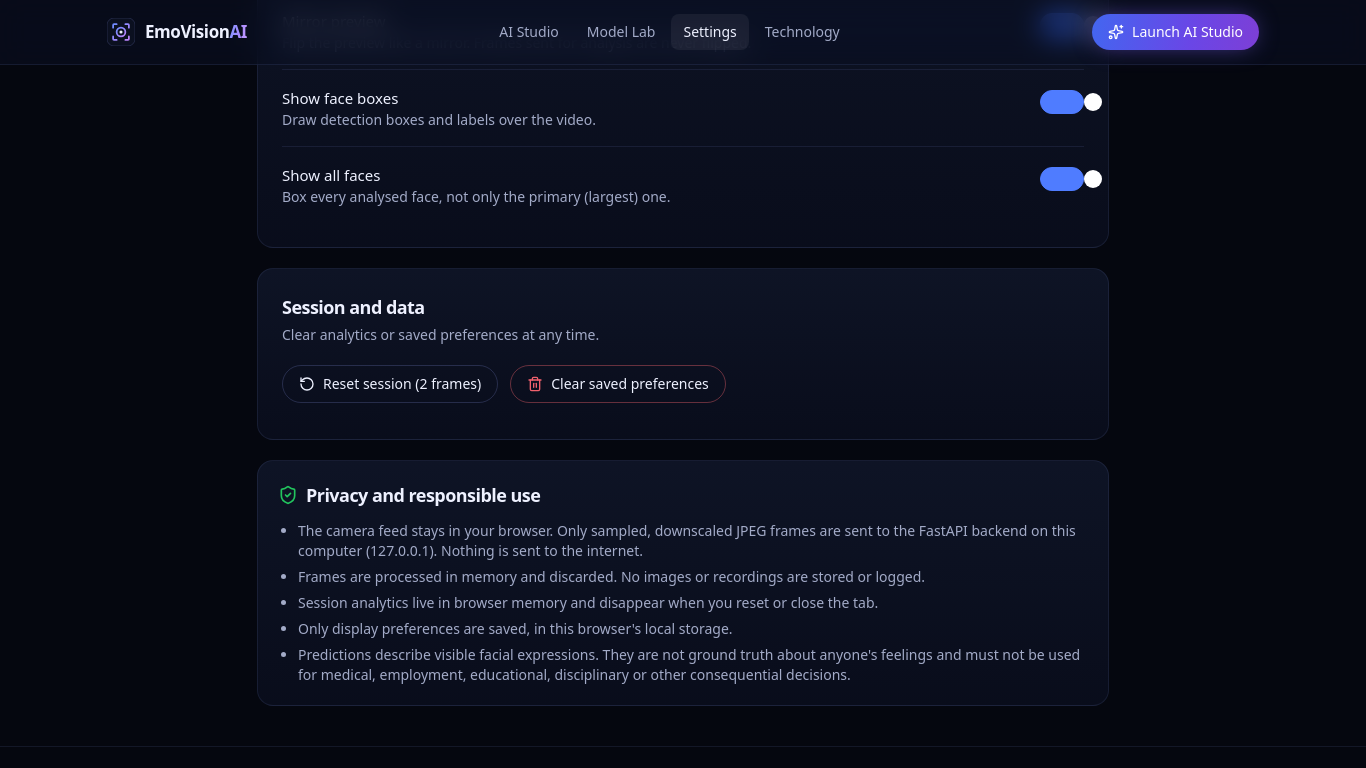
Settings page › resets the in-memory session analytics
(page scrolled)
Click the button "Reset session (2 frames)": (390, 384) [282,365,498,403]
(page scrolled)
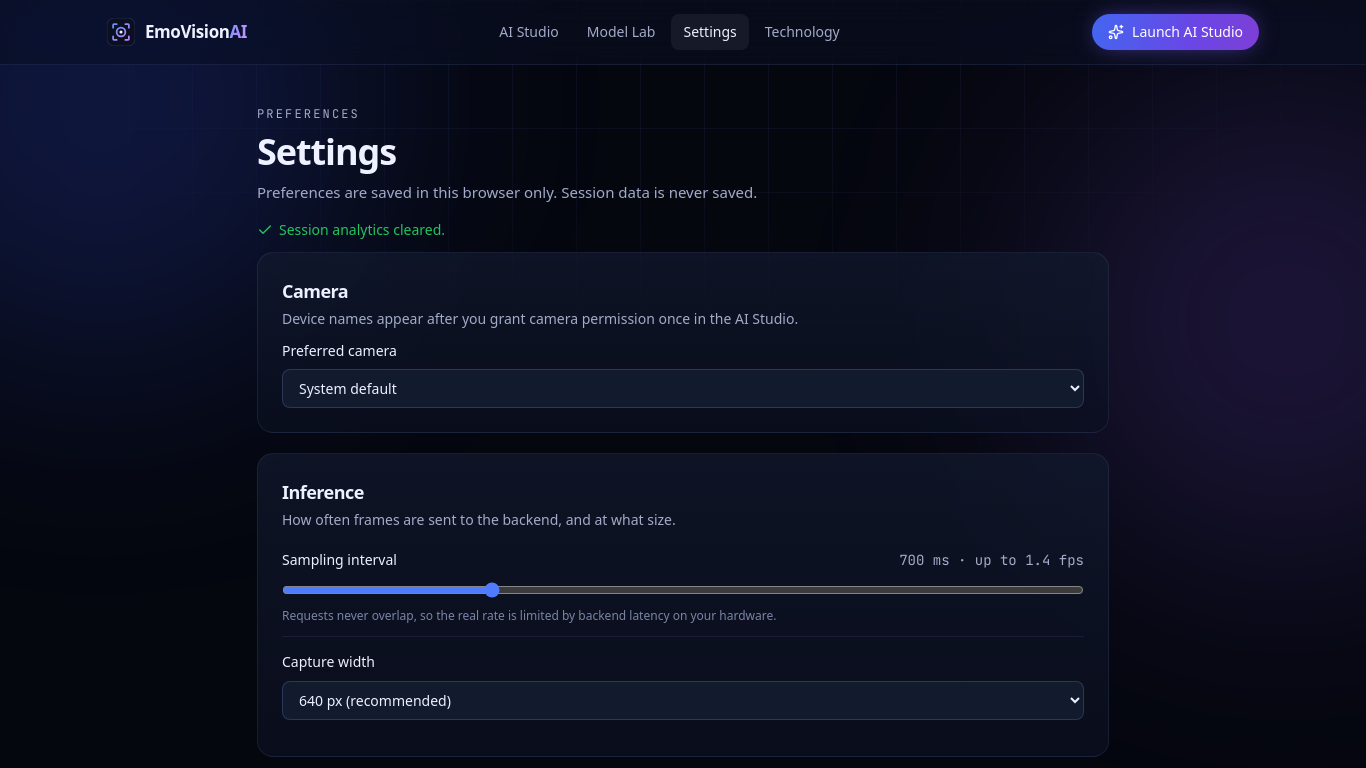
Expected: the text "Session analytics cleared." is shown, [257,220,445,240]
